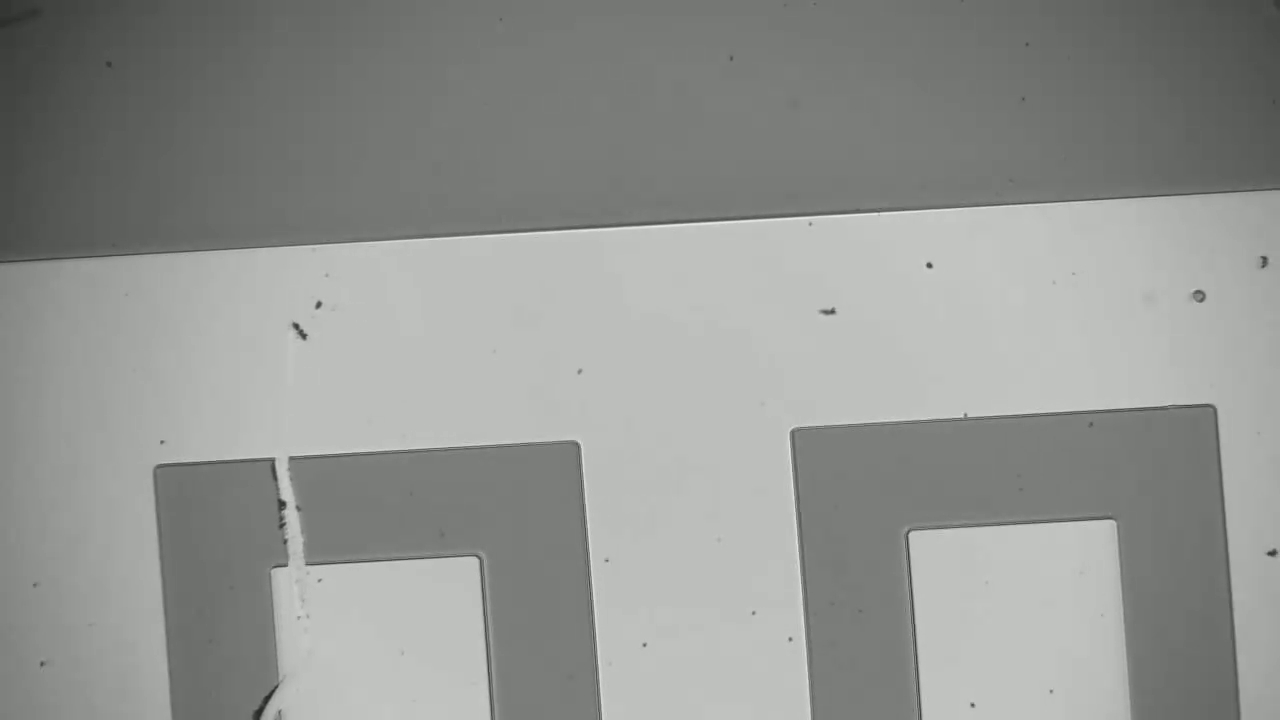Short_circuit: (260, 438, 339, 587)
